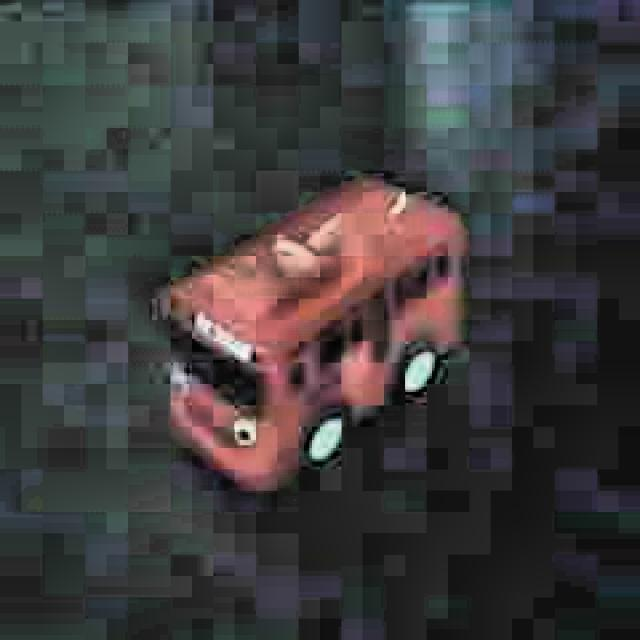bus: (155, 164, 480, 514)
